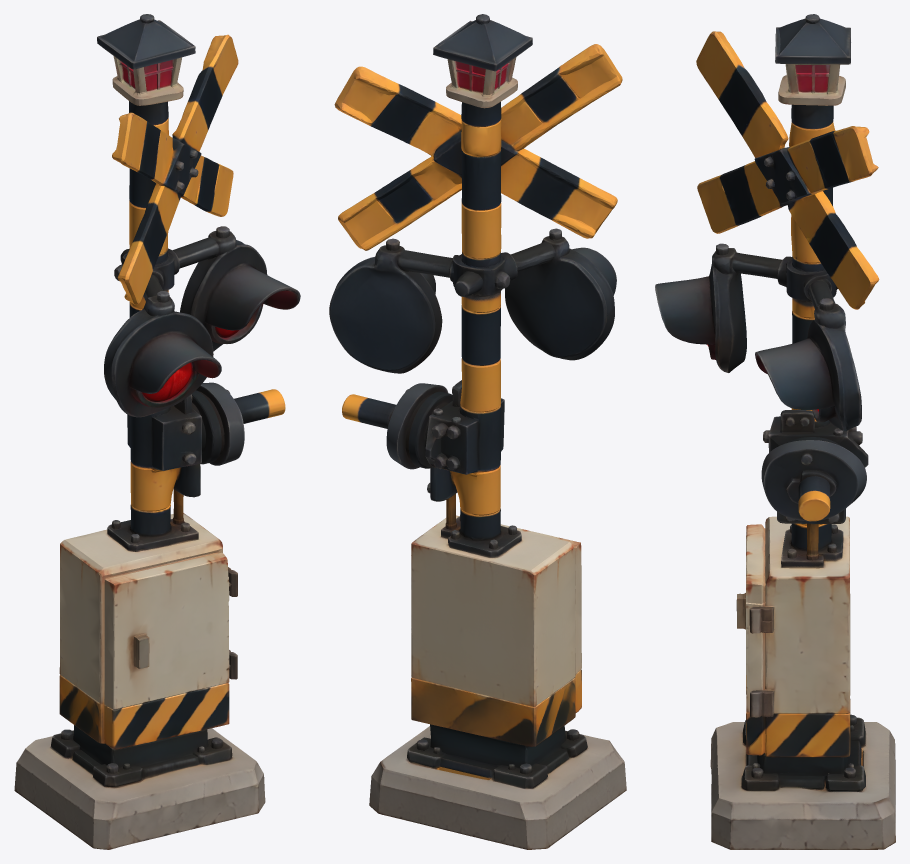
Rendered from source.glb.
3 renders of one model, left to right at view 1: azimuth 30°, elevation 25°; view 2: azimuth 150°, elevation 25°; view 3: azimuth 270°, elevation 25°, orthographic. The views are drawn at different scales.
Visible parts, largest first — view 1: model; view 2: model; view 3: model.
Part boxes in pixels (x1,y1,x2,y2): model: (14, 14, 300, 849); model: (329, 14, 626, 849); model: (655, 14, 895, 849).
Bounding box in the file's own units: 0.6008 × 1.9 × 0.5209.
1 material, 1 textured.
